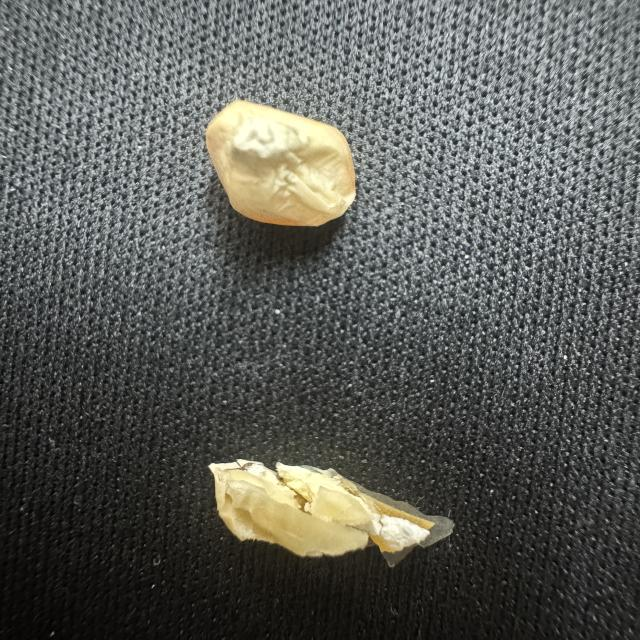Bad-Seed: (206, 443, 455, 573), (200, 92, 376, 234)
